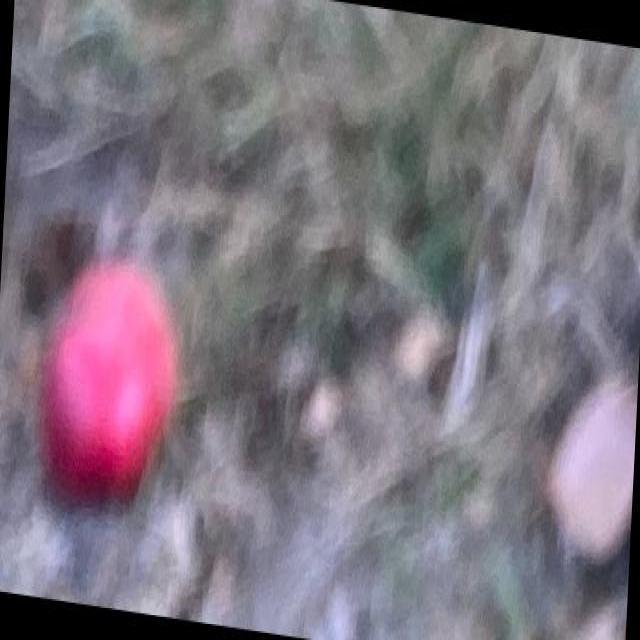Apple: (38, 259, 175, 520)
